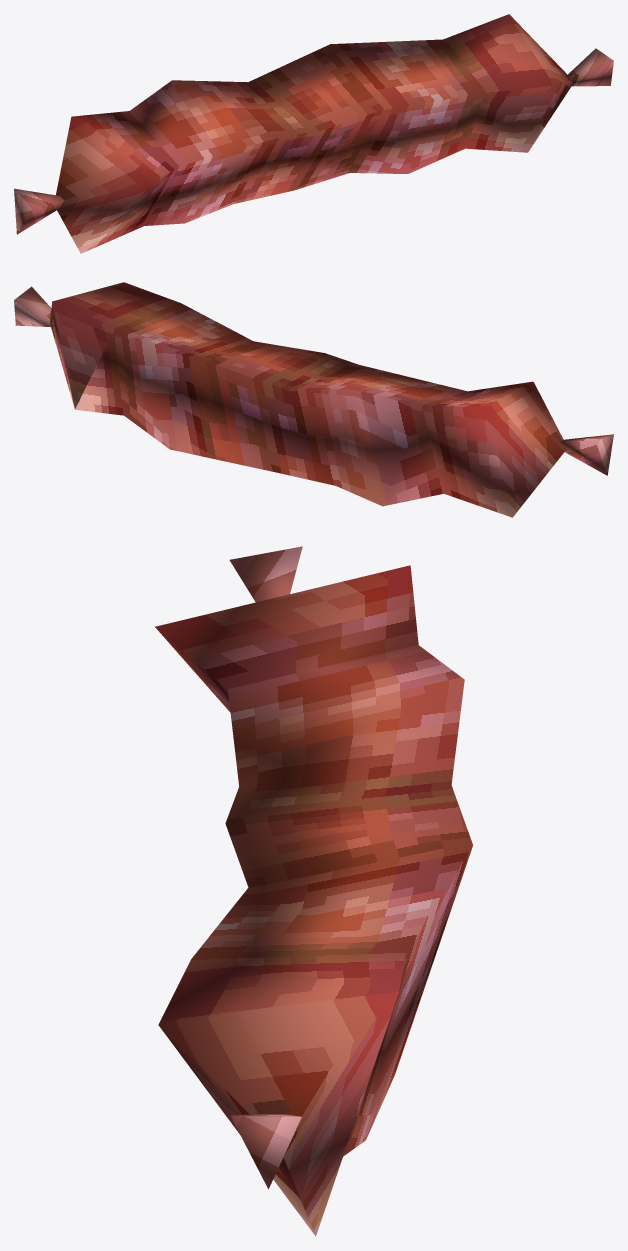
The model's file is edb_food_sausage_lg_s1_l2.fbx.
3 views of the same model, one above another, from view 1: azimuth 30°, elevation 25°; view 2: azimuth 150°, elevation 25°; view 3: azimuth 270°, elevation 25° (orthographic). The views are drawn at different scales.
Parts seen in each view (by area): view 1: mesh_node; view 2: mesh_node; view 3: mesh_node.
Part boxes in pixels (x1,y1,x2,y2): mesh_node: [14, 14, 613, 253]; mesh_node: [14, 282, 613, 517]; mesh_node: [155, 546, 472, 1236].
Size of the model in its own units: 0.3563 by 0.0739 by 0.0829.
